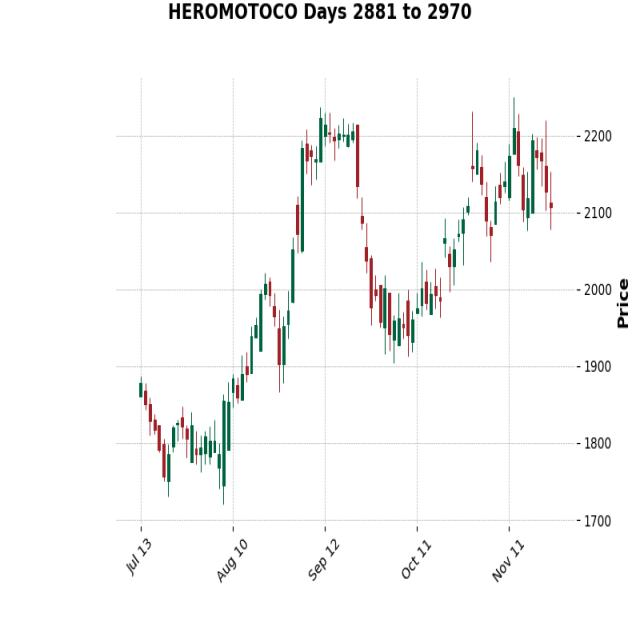Symmetric Triangle: (453, 101, 575, 244)
